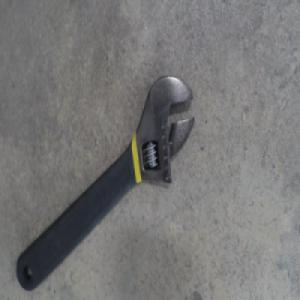AdjustableWrench: (16, 74, 195, 289)
